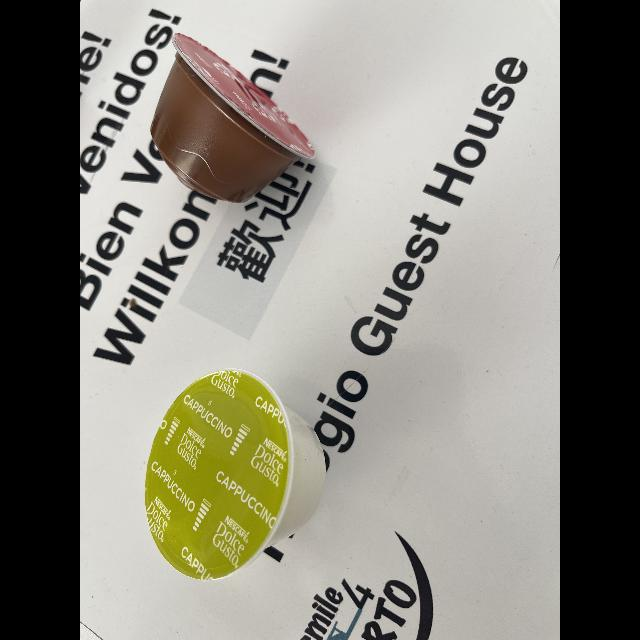intact_capsule: (136, 352, 344, 594), (136, 19, 334, 215)
